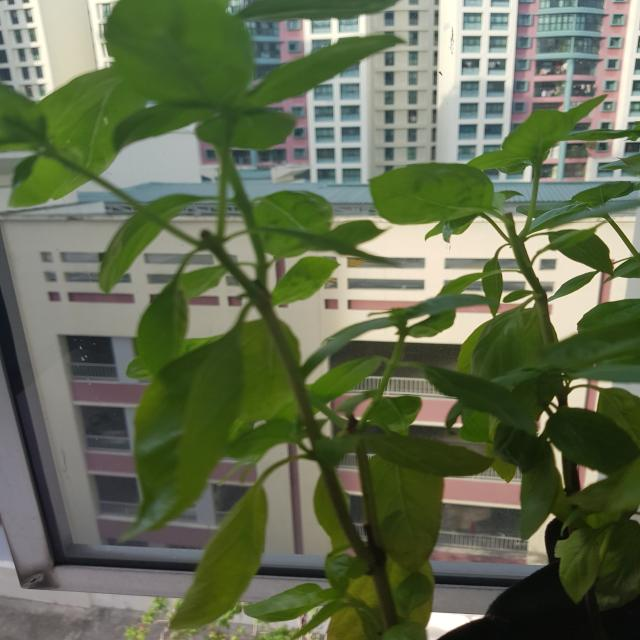Sweet Basil: (14, 9, 640, 626)
